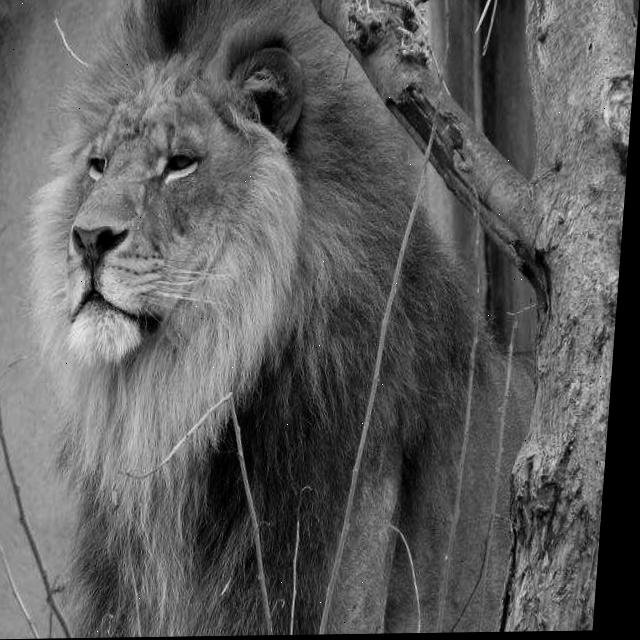Lion: (0, 36, 366, 551)
